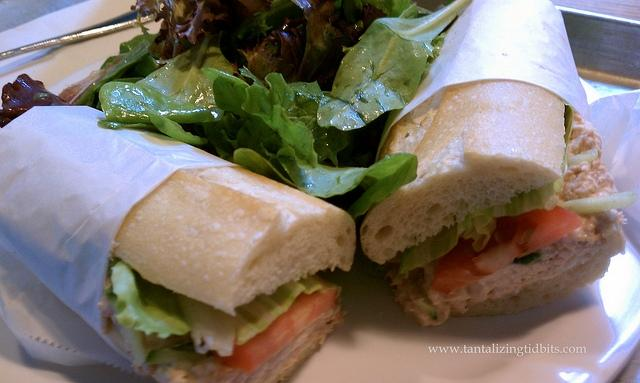lettuce: (396, 99, 574, 279), (104, 256, 325, 357), (316, 0, 473, 131), (99, 30, 233, 126), (241, 71, 354, 168), (276, 146, 418, 221), (118, 54, 159, 78)
tomato: (432, 206, 584, 295), (210, 288, 338, 374)
